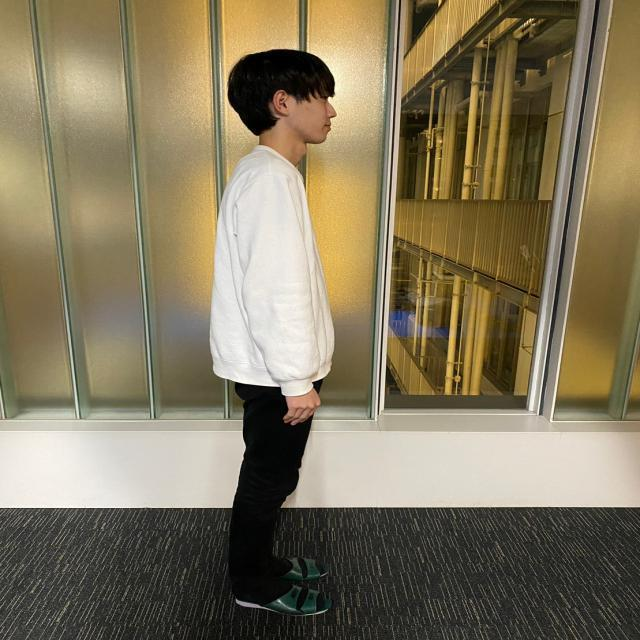direk: (210, 49, 354, 623)
